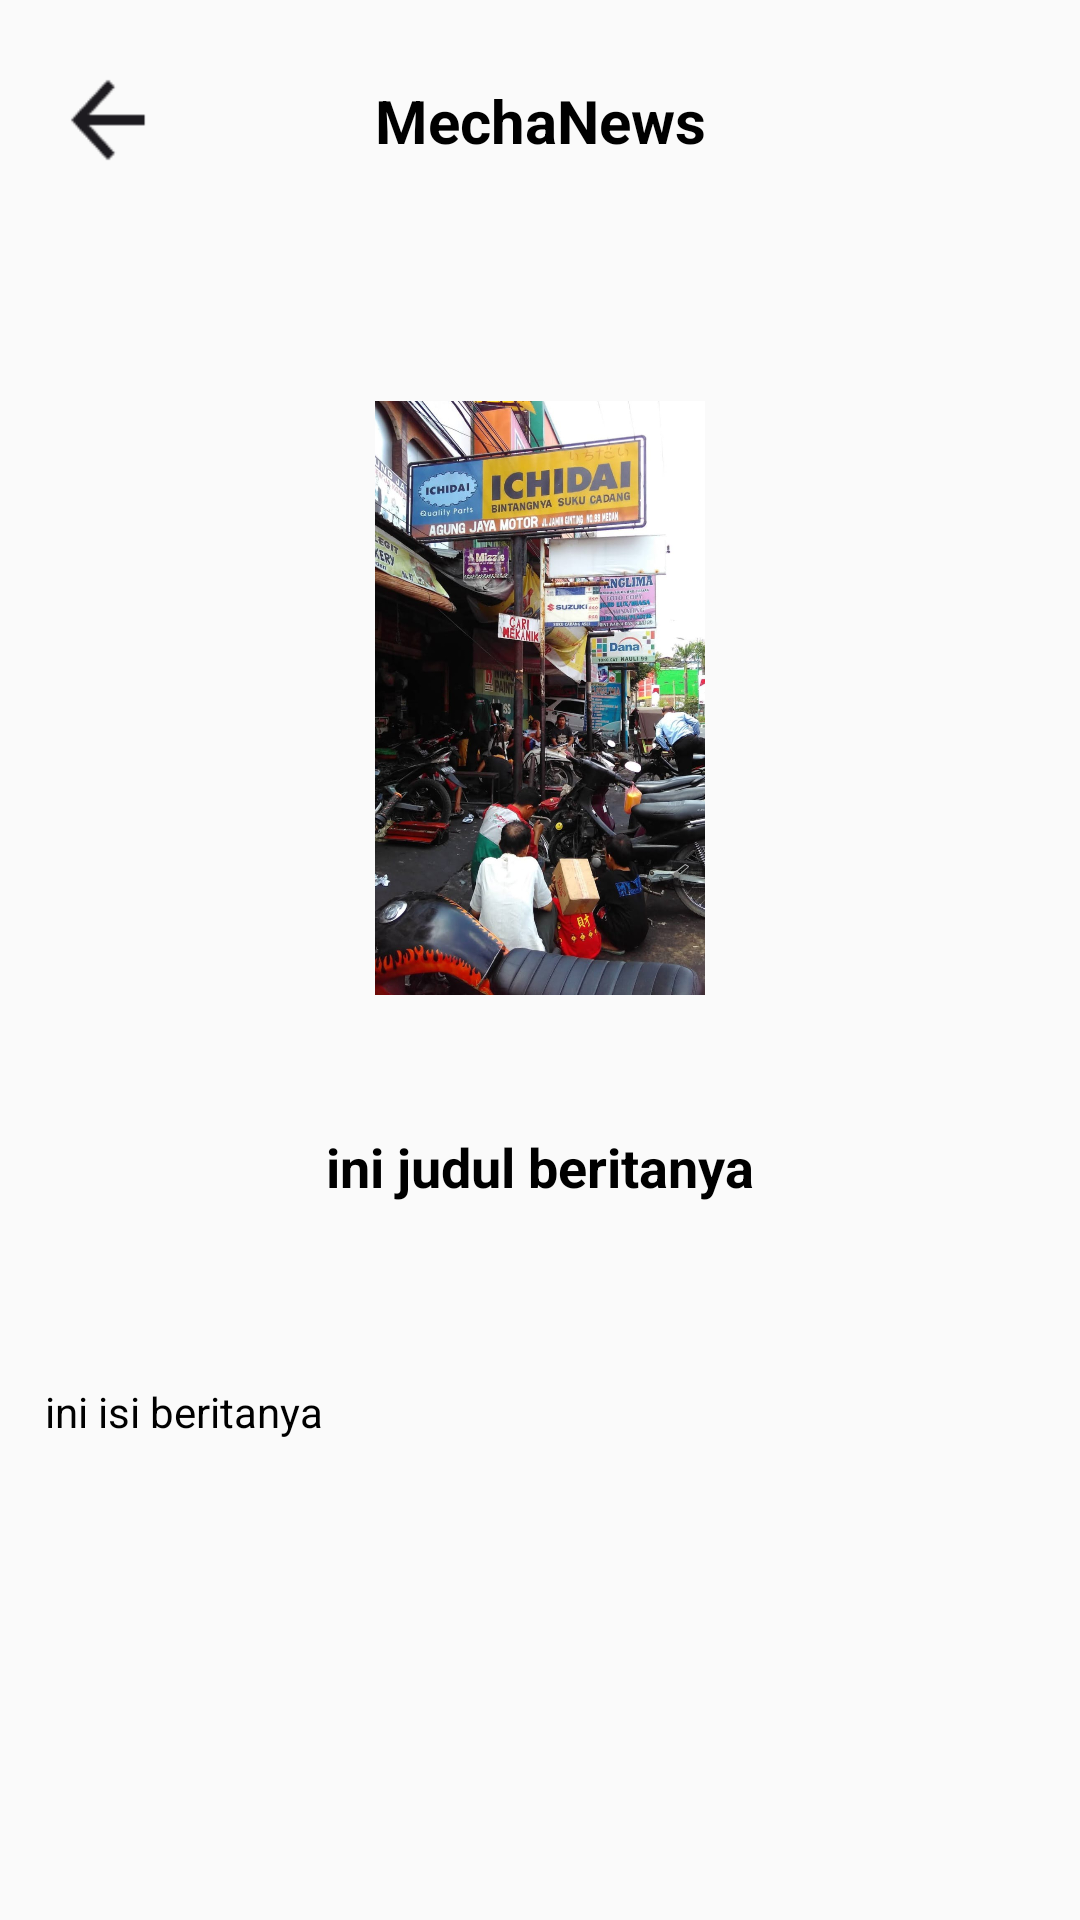

Icon bounding boxes for this 1080×1920 phone screenshot, format (x1, y1, x2, y2):
arrow back: (71, 80, 145, 160)
